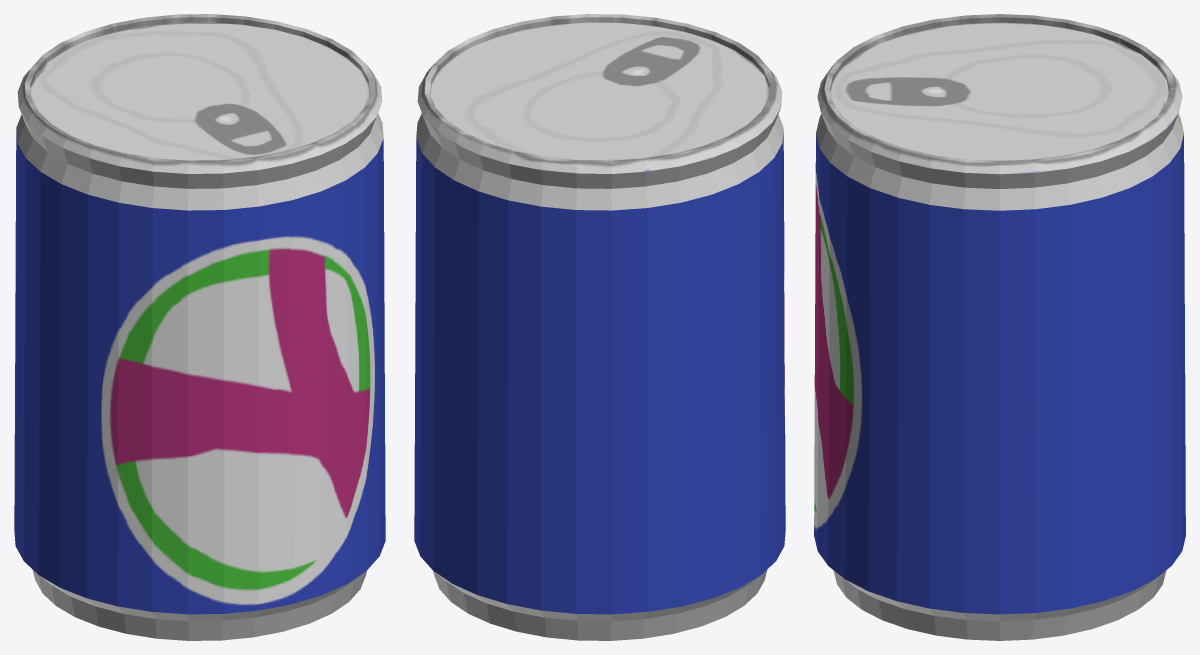
Rendered from puszka.fbx.
3 views of the same model, side by side, from view 1: azimuth 30°, elevation 25°; view 2: azimuth 150°, elevation 25°; view 3: azimuth 270°, elevation 25° (orthographic).
Parts seen in each view (by area): view 1: puszka; view 2: puszka; view 3: puszka.
Boxes of the visible parts, x1=… form: puszka: x1=14, y1=14, x2=385, y2=640; puszka: x1=414, y1=14, x2=785, y2=640; puszka: x1=814, y1=14, x2=1185, y2=640.
Size of the model in its own units: 27.13 by 38.84 by 27.13.
Materials: 1 (1 with a texture image).
